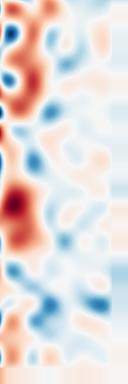filament: (0, 184, 49, 255)
